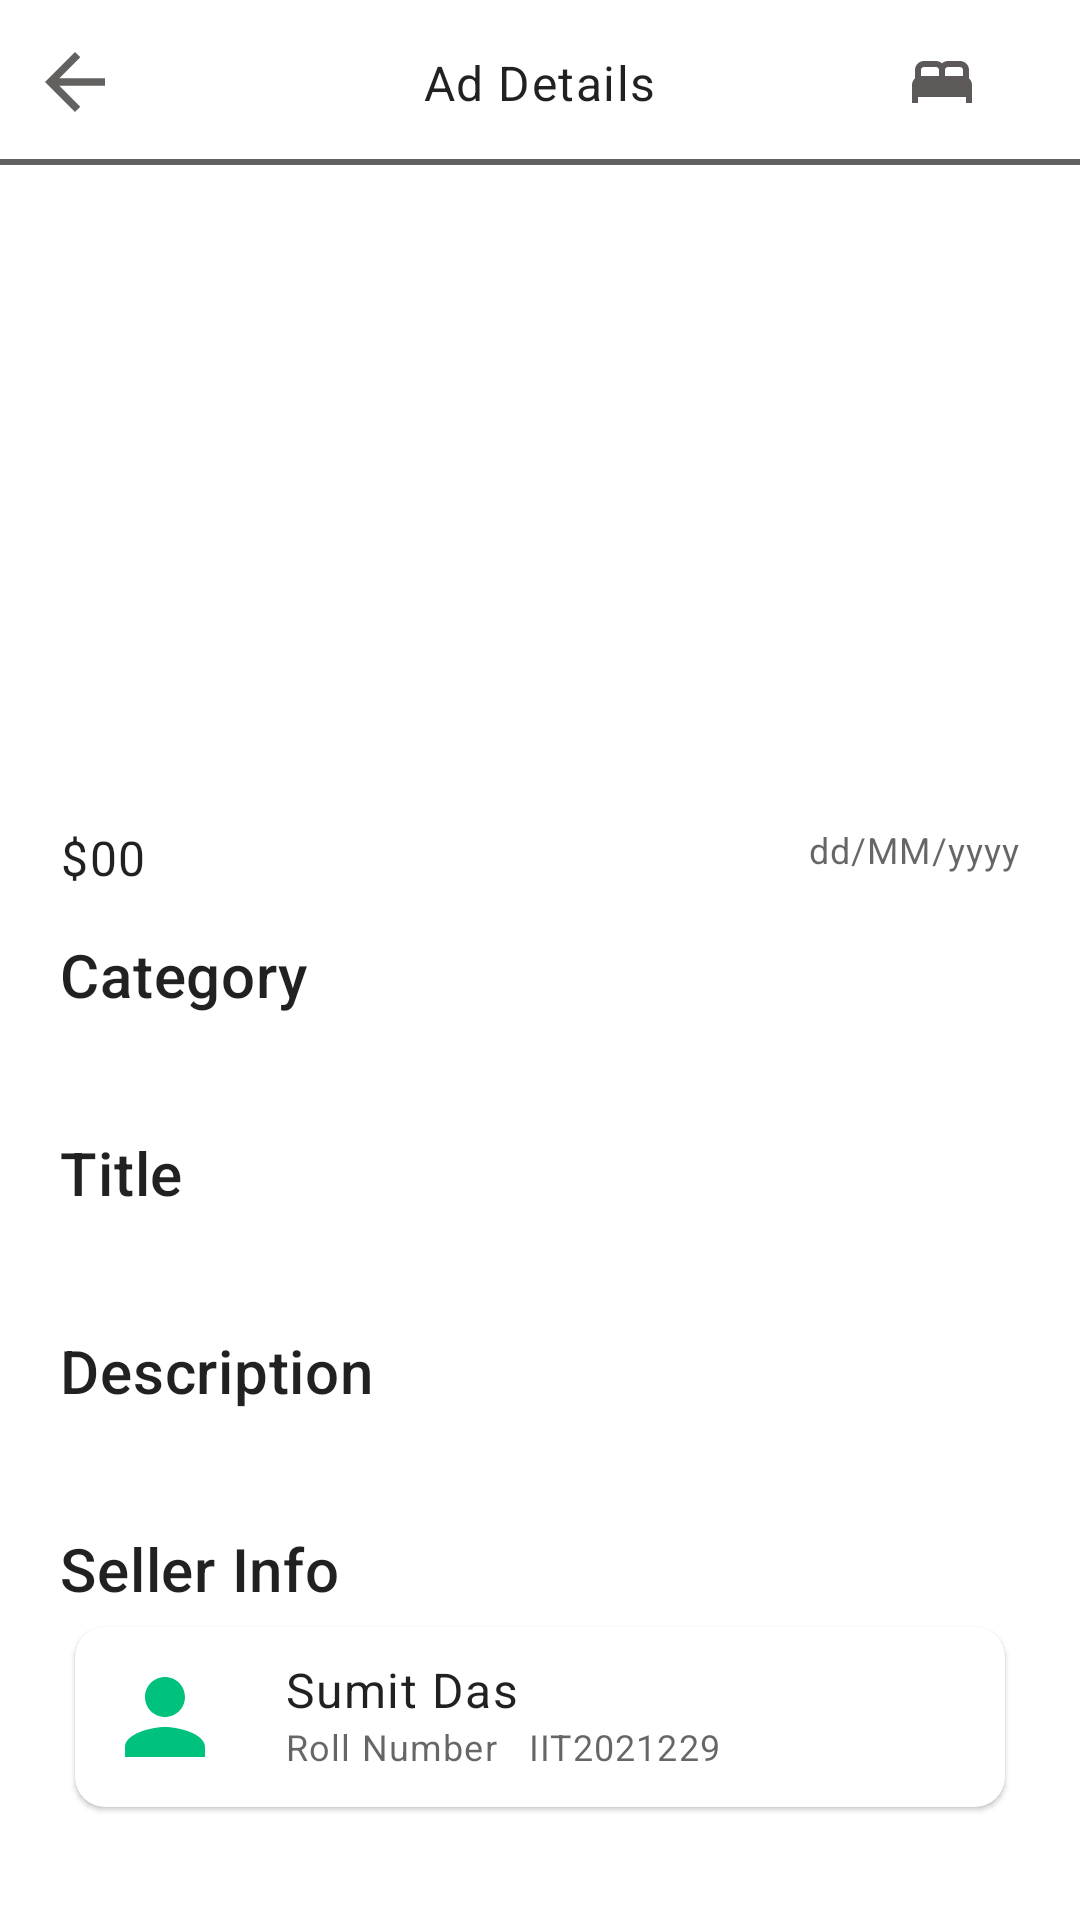

Where icons sit on this 1080x1920 app screen, as detection(x1, y1, x2, y2):
arrow back: detection(45, 52, 105, 112)
bed: detection(912, 61, 972, 103)
person: detection(125, 1677, 205, 1757)
